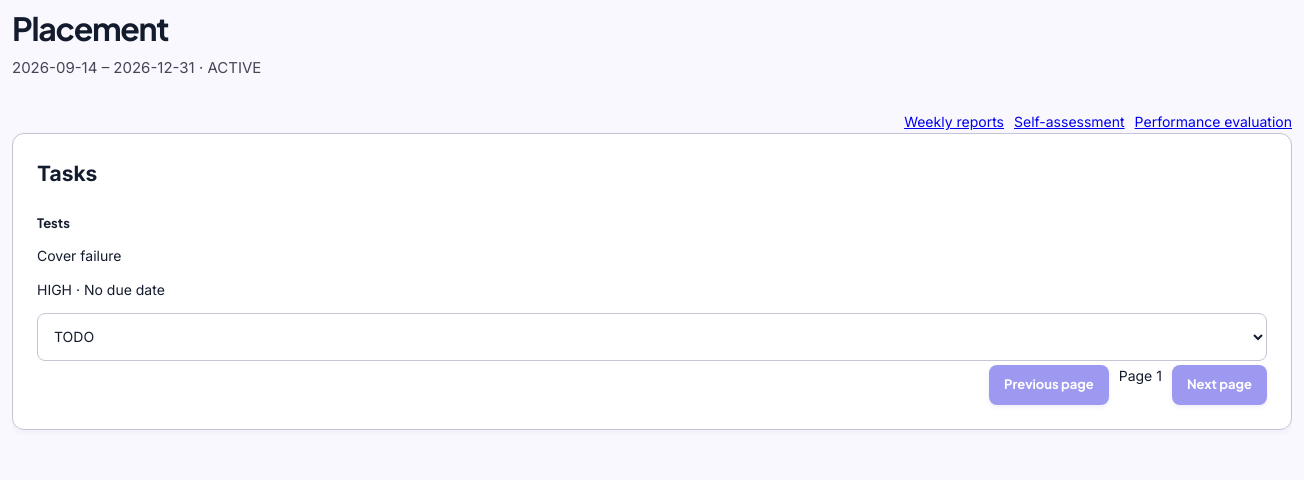
Test case: lets students update their task and surfaces rejected updates
Select "DONE" in the dropdown named "Status for Tests": (652, 337) [37,313,1267,361]
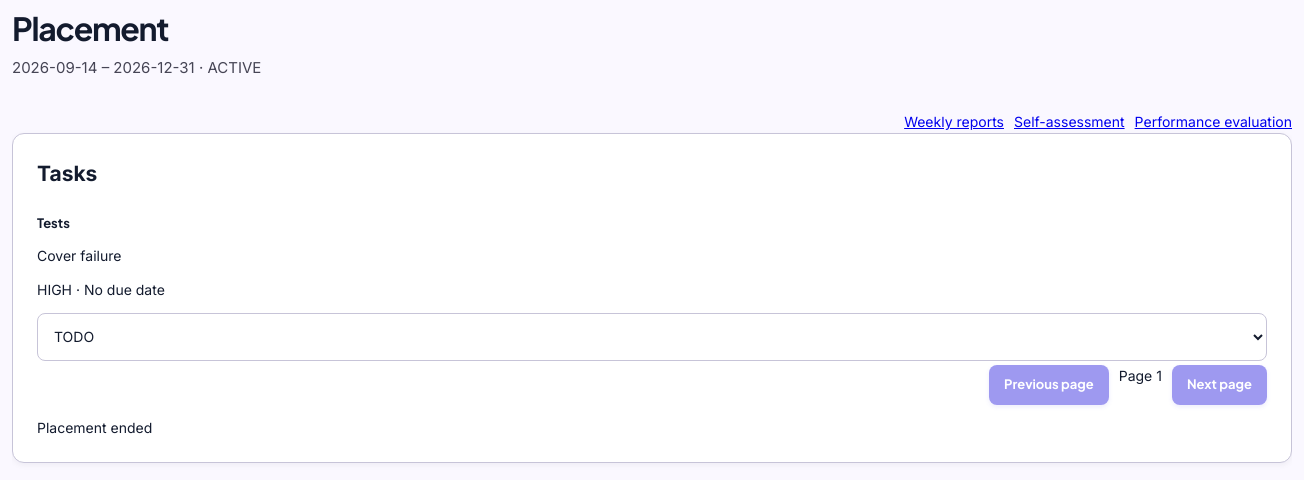
Now the message reads "Placement ended", box [37,419,152,436]
